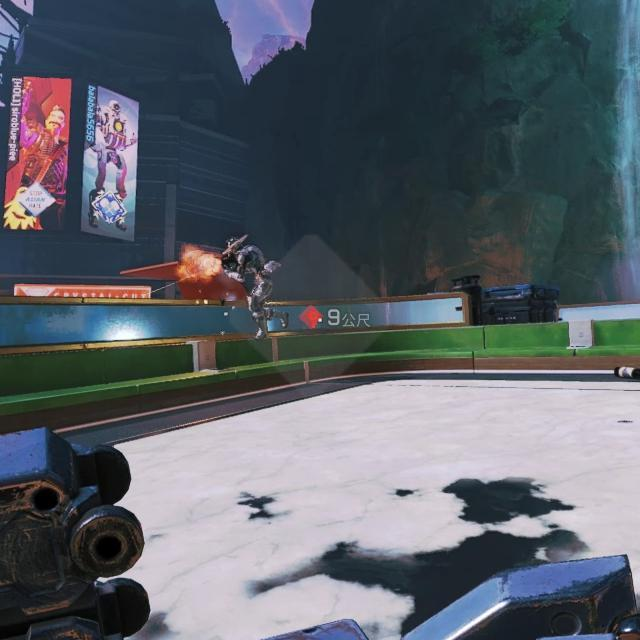avatar: (224, 236, 283, 339)
